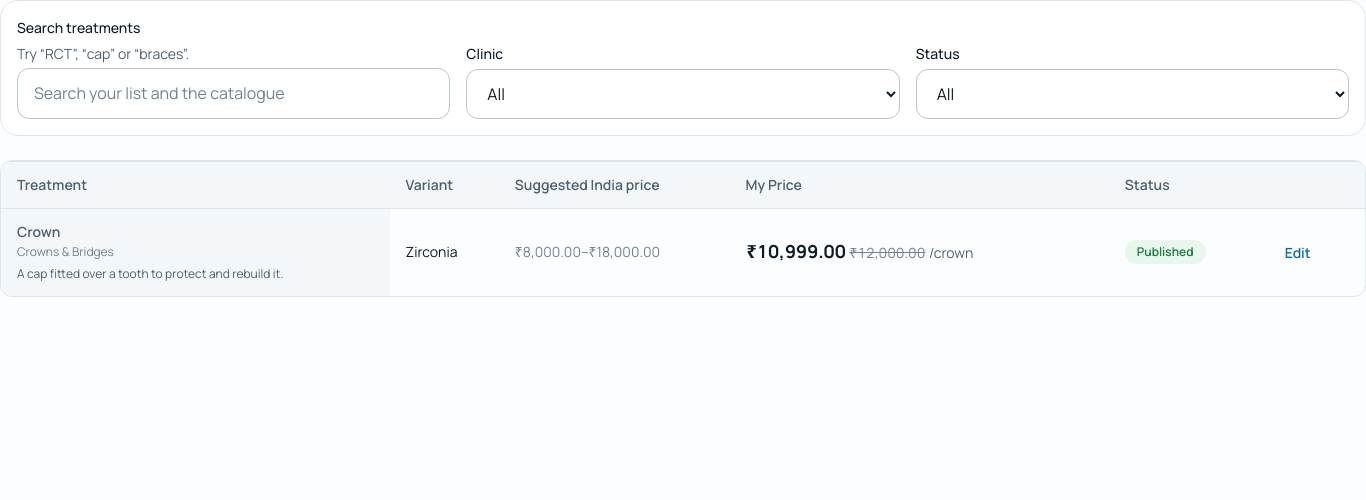
Test: search and filters › offers unpriced catalogue treatments matching the search
Type "root canal" into the search field labelled "Search treatments".
click(234, 94); type("root canal")  # box [17, 68, 450, 119]
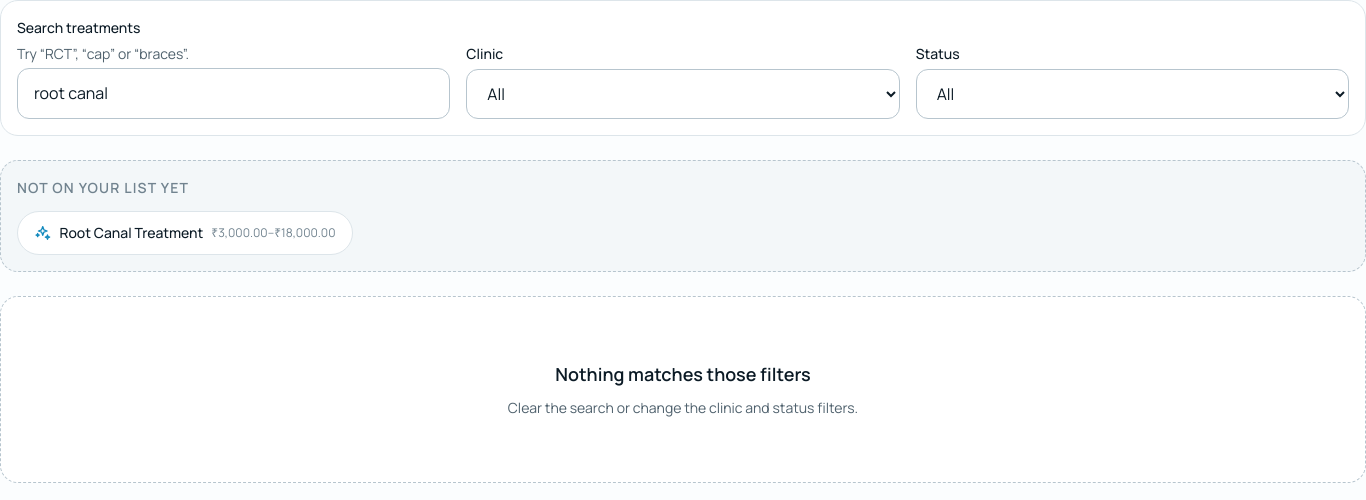
Expected: the heading "Not on your list yet" is shown, [17, 178, 189, 197]
